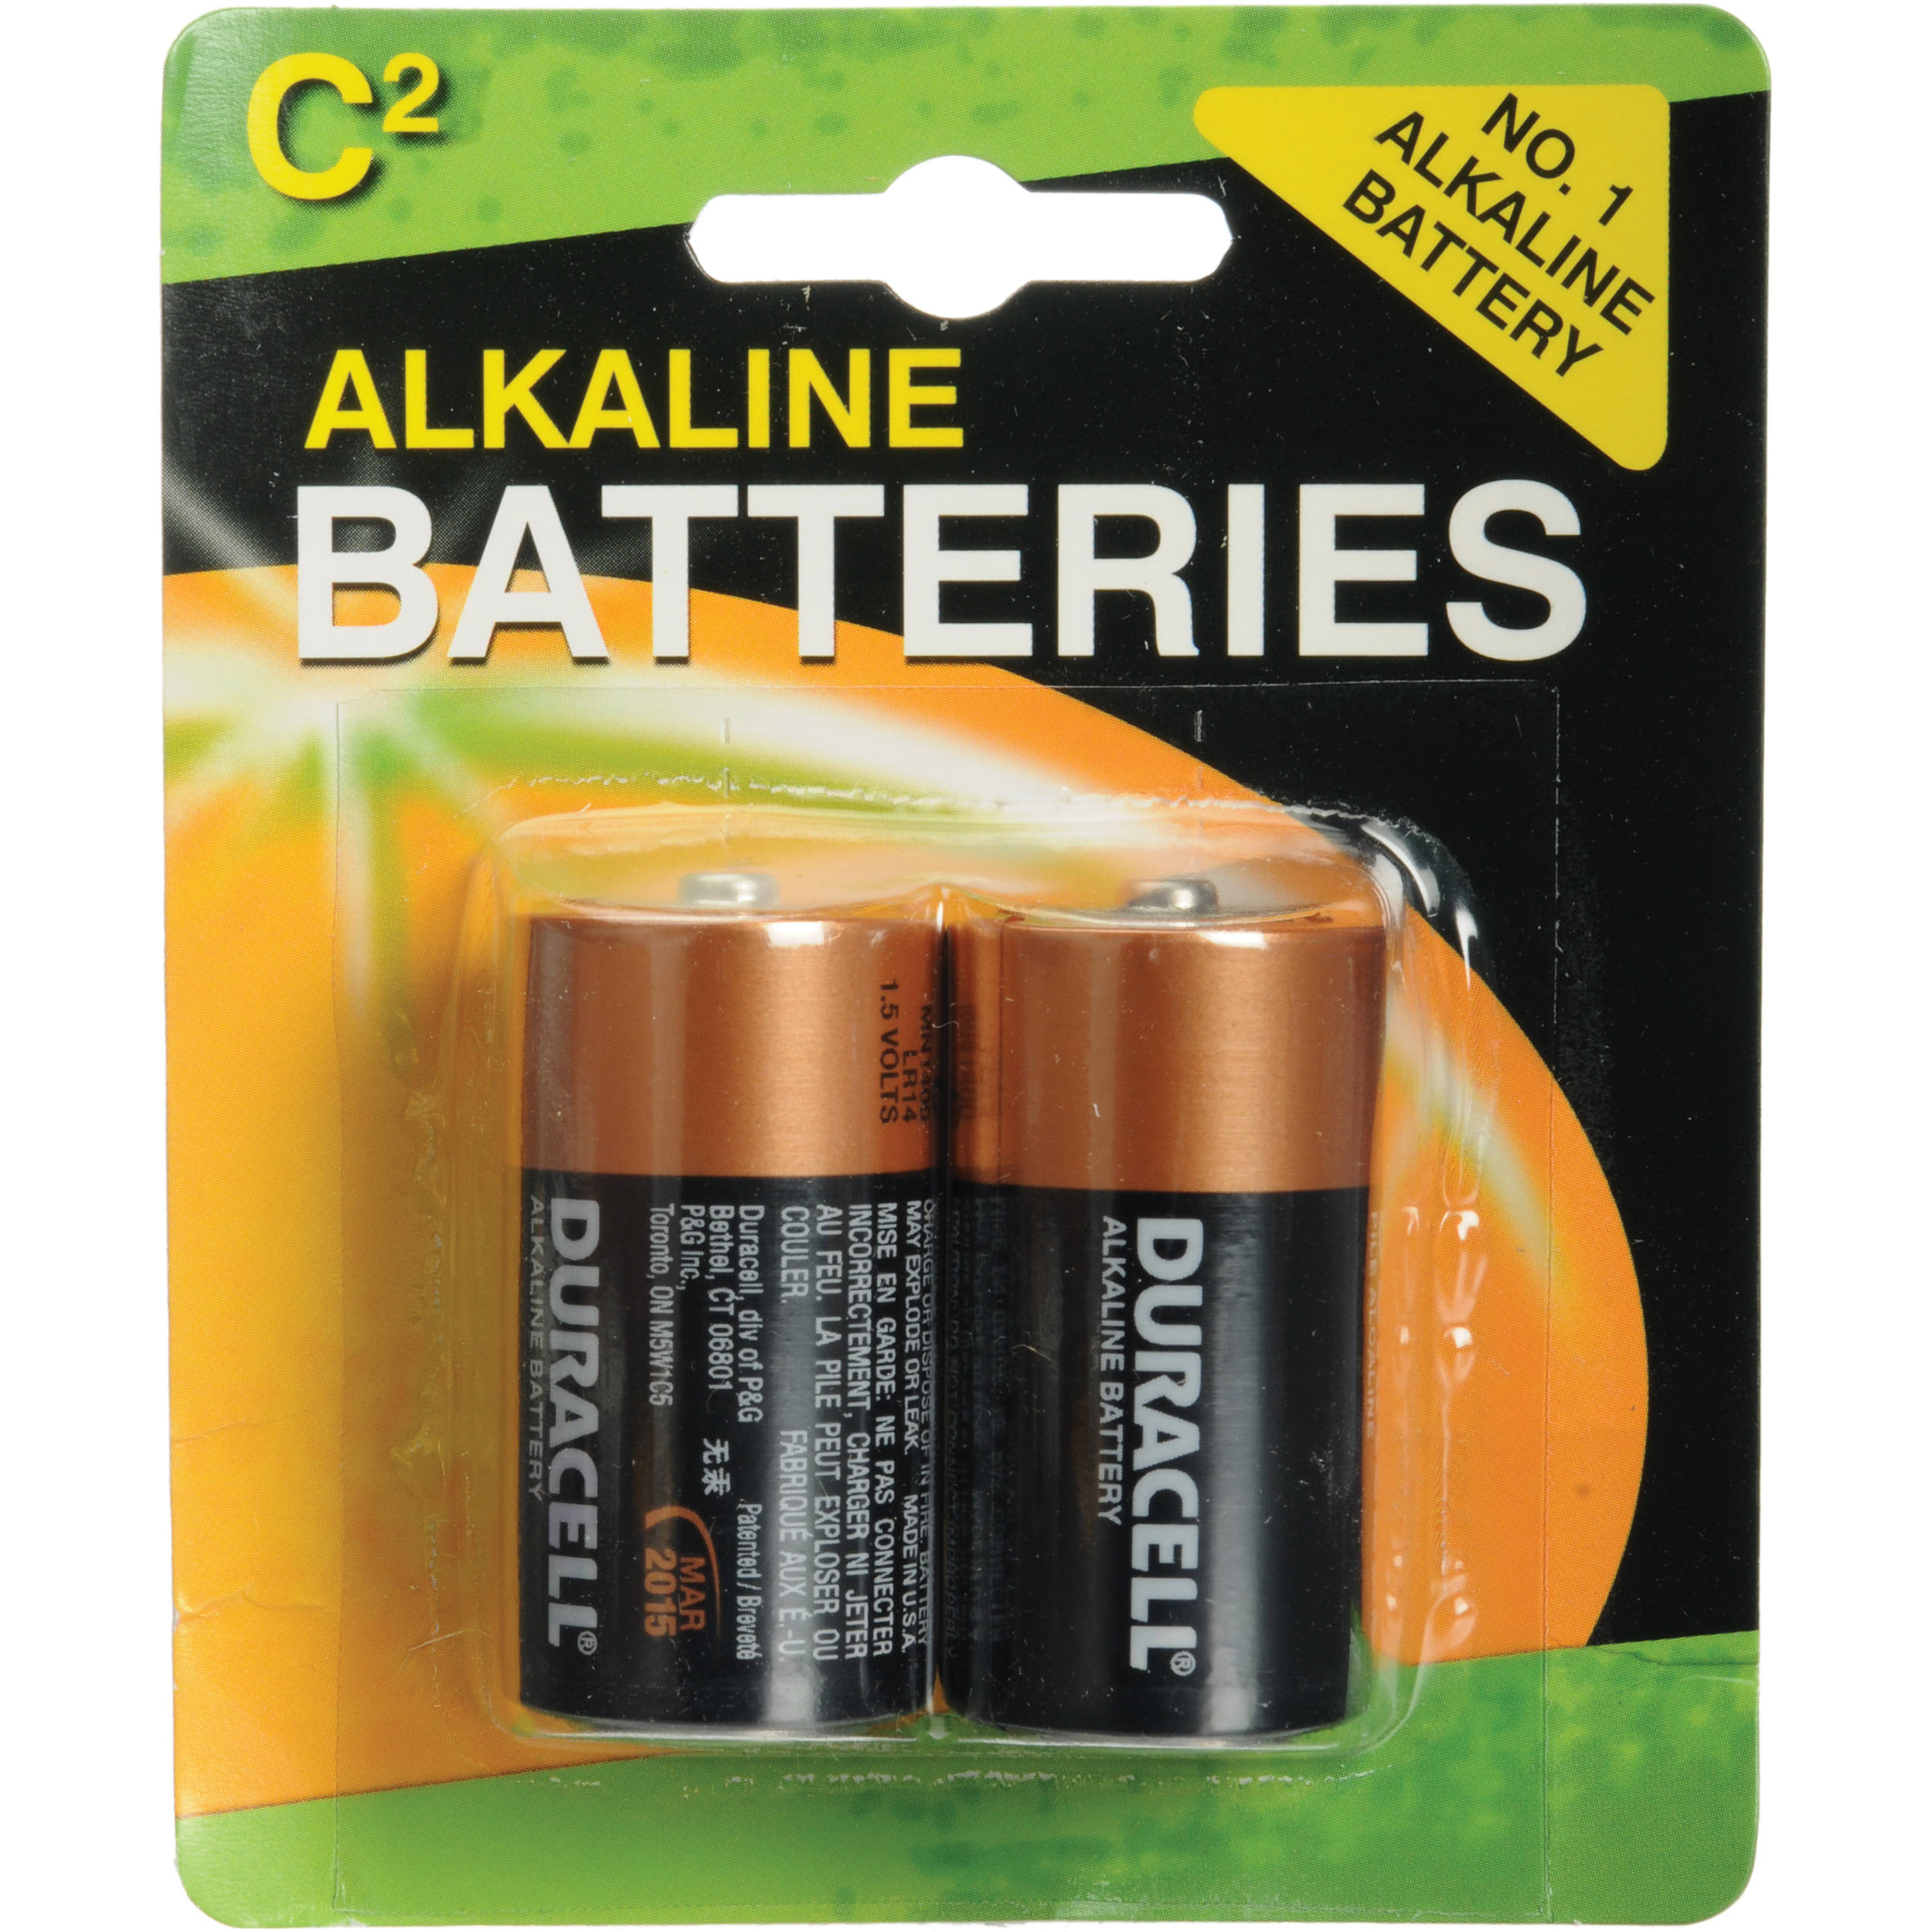Nonrec_Other: (511, 837, 1435, 1760)
